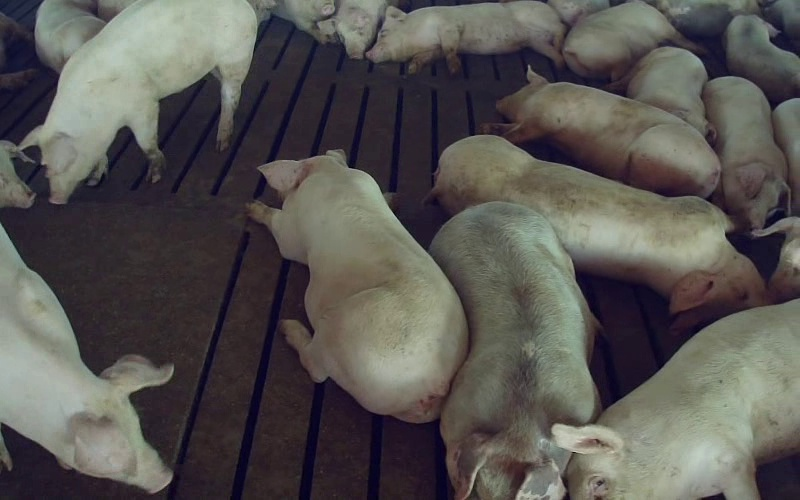pig: (430, 136, 766, 331), (247, 151, 467, 422), (430, 204, 598, 499), (552, 299, 799, 499), (482, 68, 720, 197), (366, 2, 565, 73), (702, 76, 789, 229), (563, 2, 703, 81), (606, 47, 715, 143), (723, 15, 799, 102), (652, 0, 760, 37)
